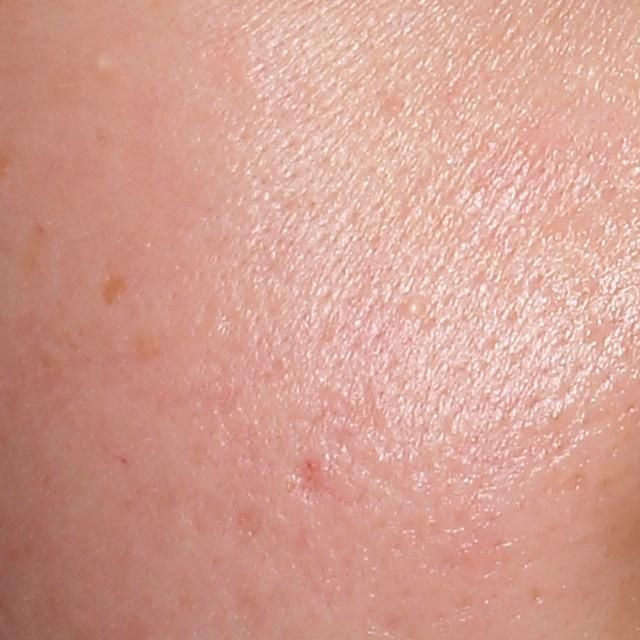atrophic_scar: (285, 455, 331, 506)
comedo: (89, 51, 120, 80), (399, 293, 427, 317)
melasma: (100, 274, 130, 307)
